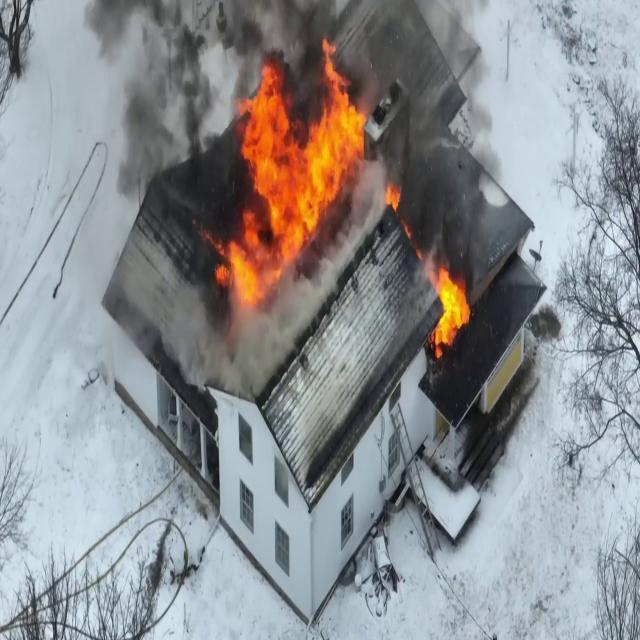Fire: (222, 39, 370, 296), (426, 256, 474, 356)
Smoke: (85, 1, 249, 217)
